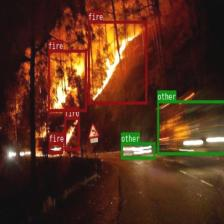fire: (87, 20, 147, 104), (48, 49, 86, 111), (64, 117, 80, 150), (49, 142, 63, 153)
